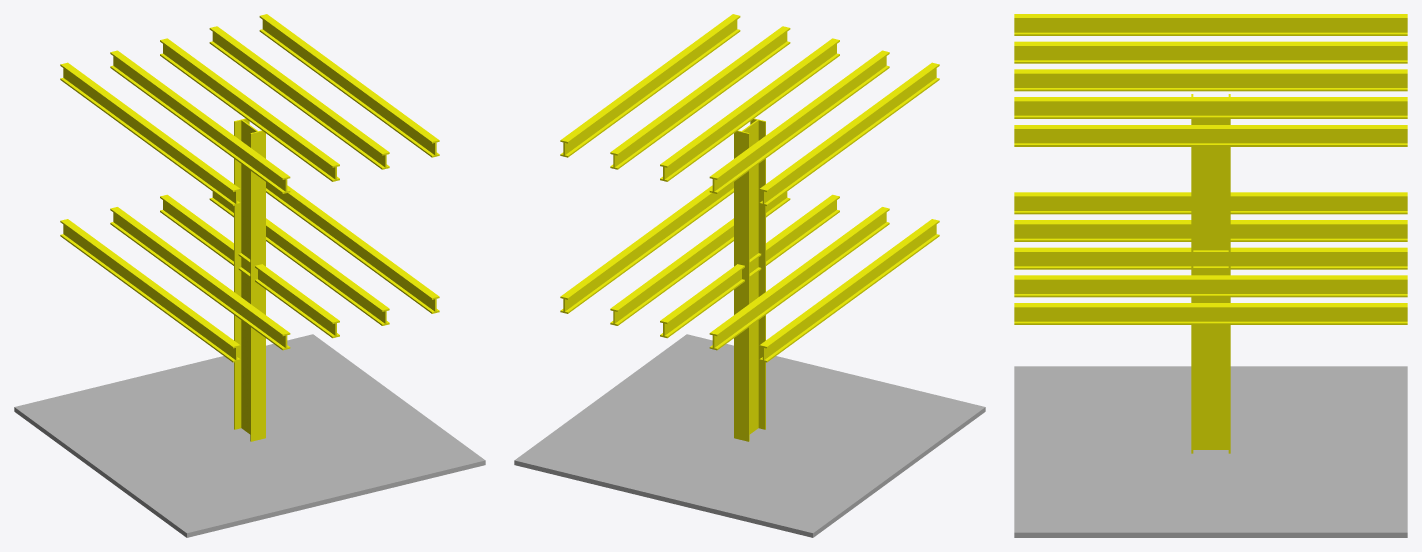
The model's file is building.glb.
3 renders of one model, left to right at view 1: azimuth 30°, elevation 25°; view 2: azimuth 150°, elevation 25°; view 3: azimuth 270°, elevation 25°, orthographic. The views are drawn at different scales.
Size of the model in its own units: 20 by 21.5 by 20.
